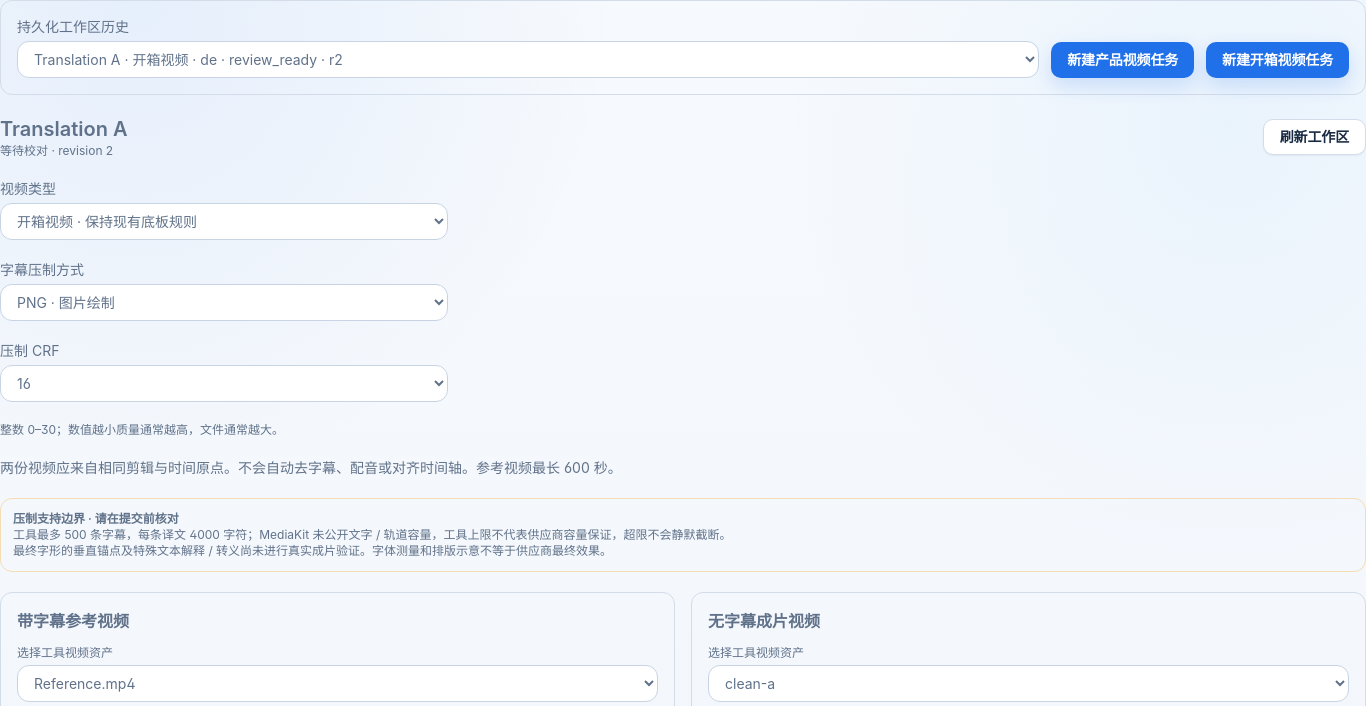
Test: subtitle workspace › creates an explicitly selected product workspace
This screenshot has width=1366, height=706.
Click the button "新建产品视频任务" at (1123, 60), box [1051,42,1194,78]
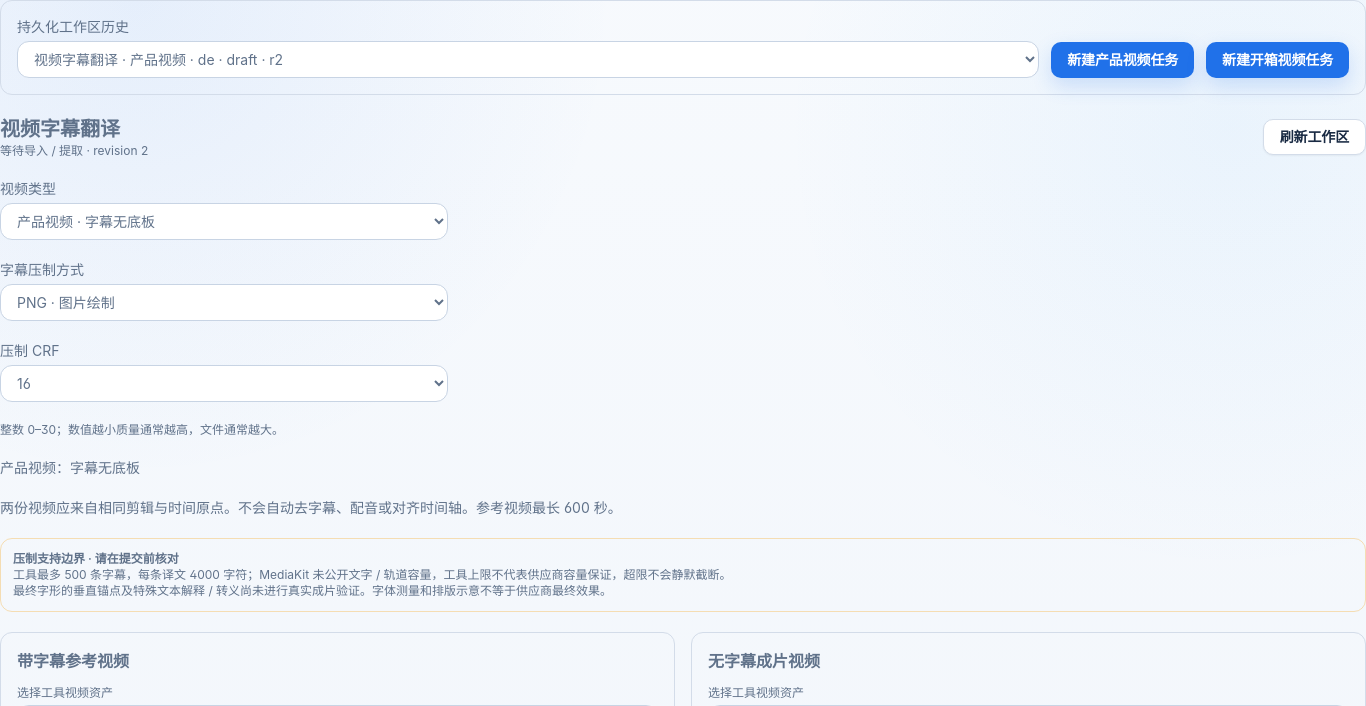
Expected: the dropdown labelled "视频类型" shows "产品视频 · 字幕无底板", [0,203,448,240]
